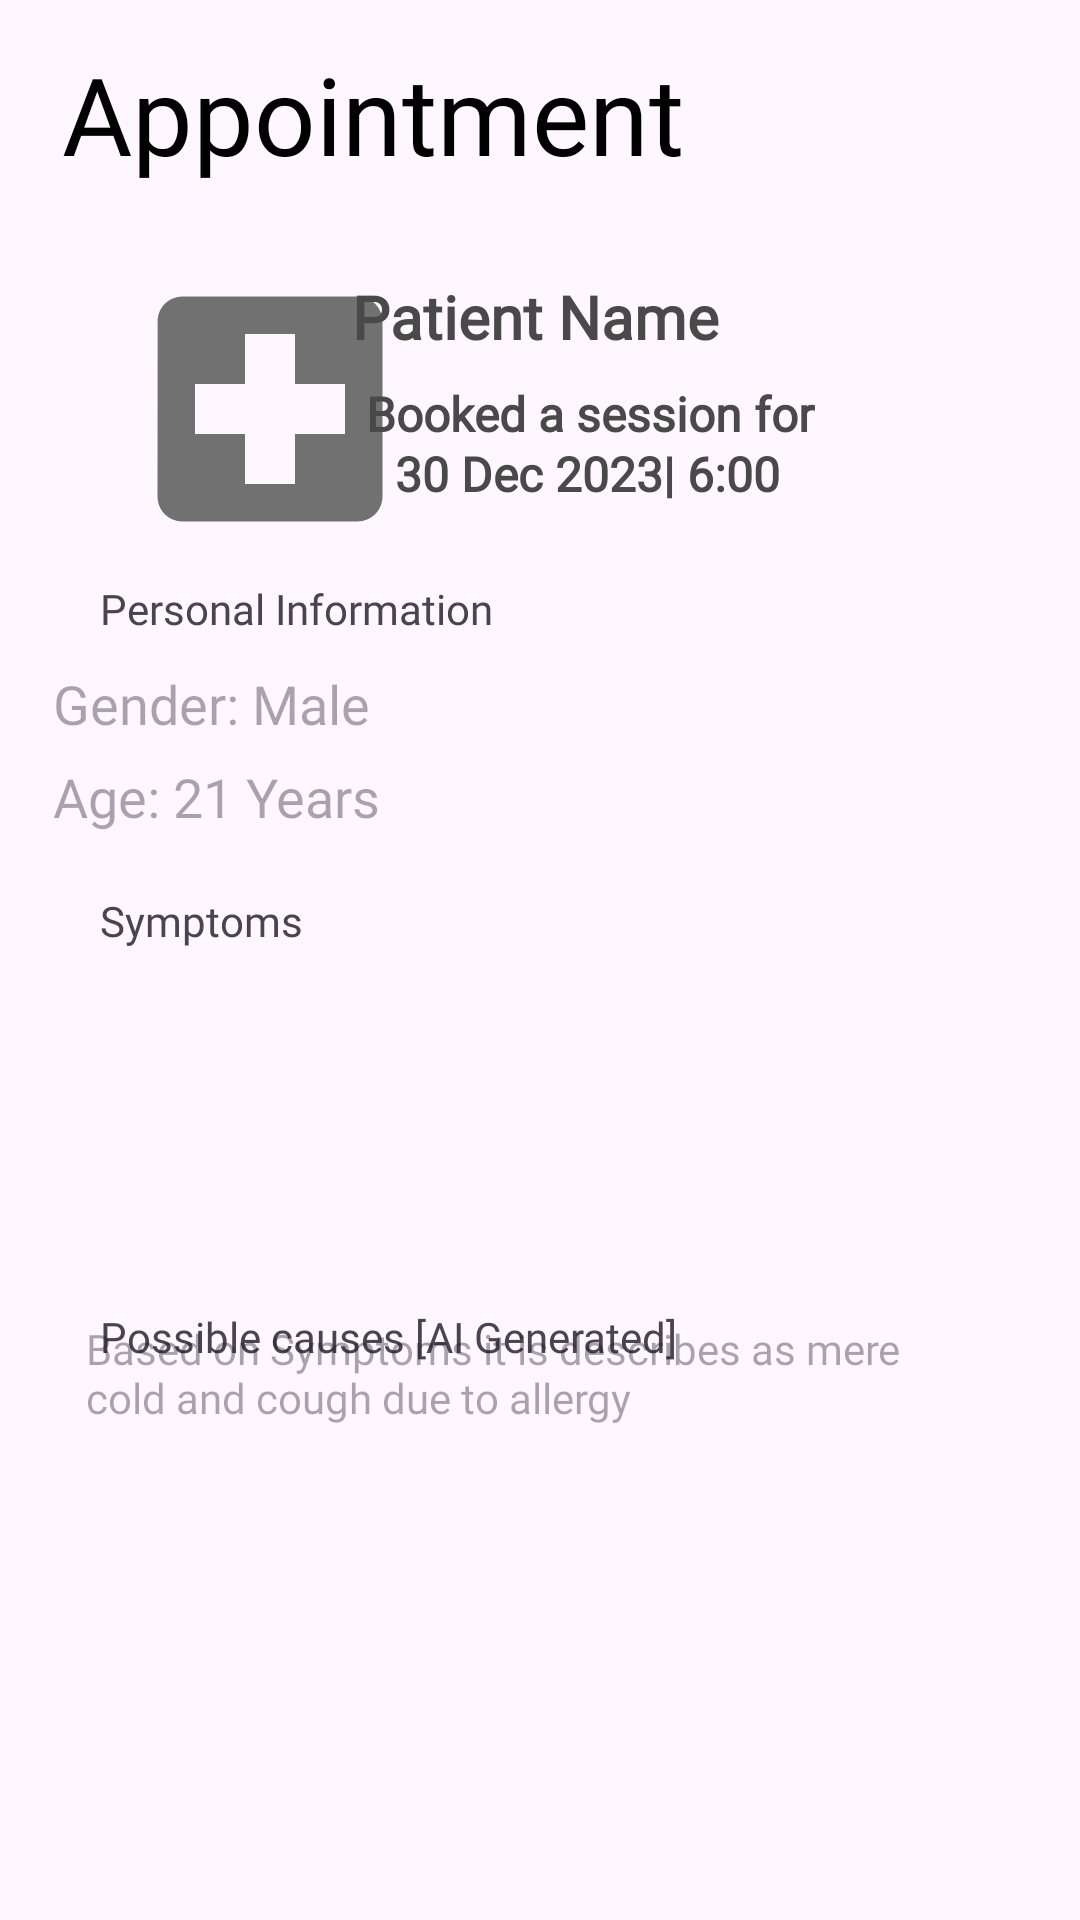

Icons on this 1080x1920 Android screen, each with its box as [x1=x1, y1=y1, x2=x2, y2=y2]:
local hospital: [x1=157, y1=295, x2=420, y2=522]
